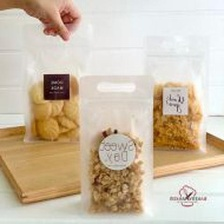snack: (73, 69, 161, 221), (17, 18, 97, 146), (138, 28, 215, 158)
